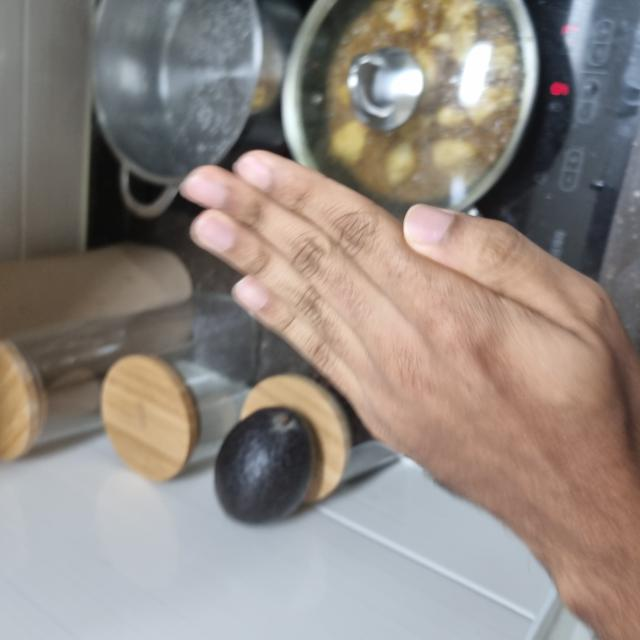Paper: (103, 183, 490, 638)
